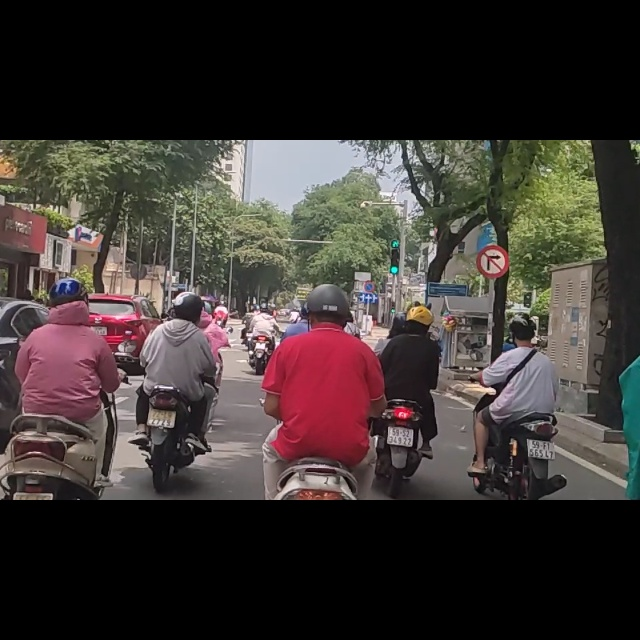bien_cam: (477, 186, 509, 247), (363, 248, 375, 271)
